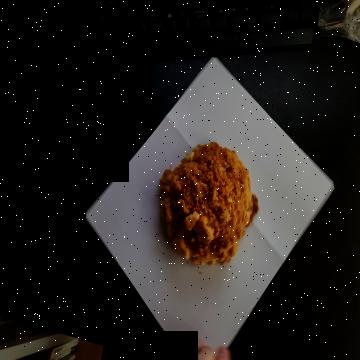soboru_bread: (158, 142, 259, 266)
